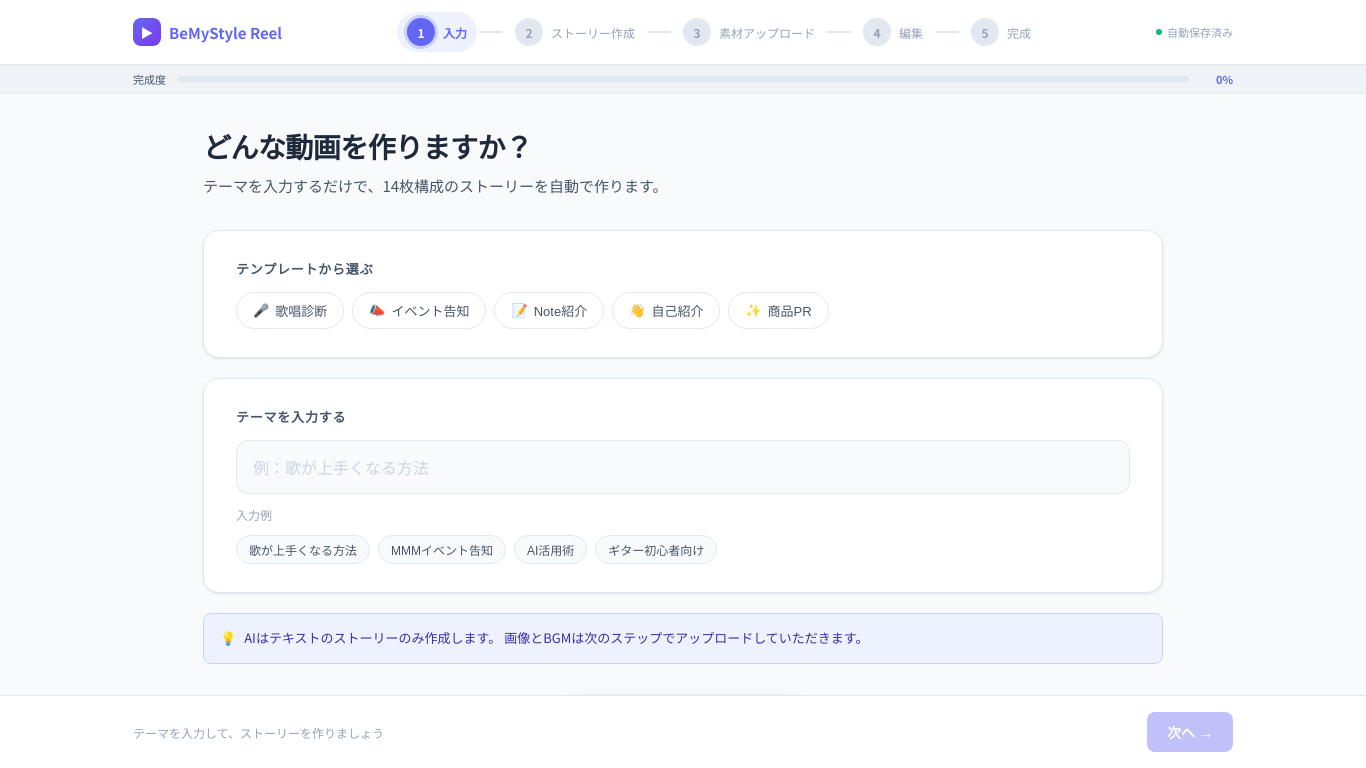
Test: WizardMode: 台本の受け取り（initialScript） › 通常起動のWizardは従来どおり14枚固定（AI生成が3枚返しても14枚に正規化）
Type "テーマ" into the field at (683, 467), box [236,440,1130,494]
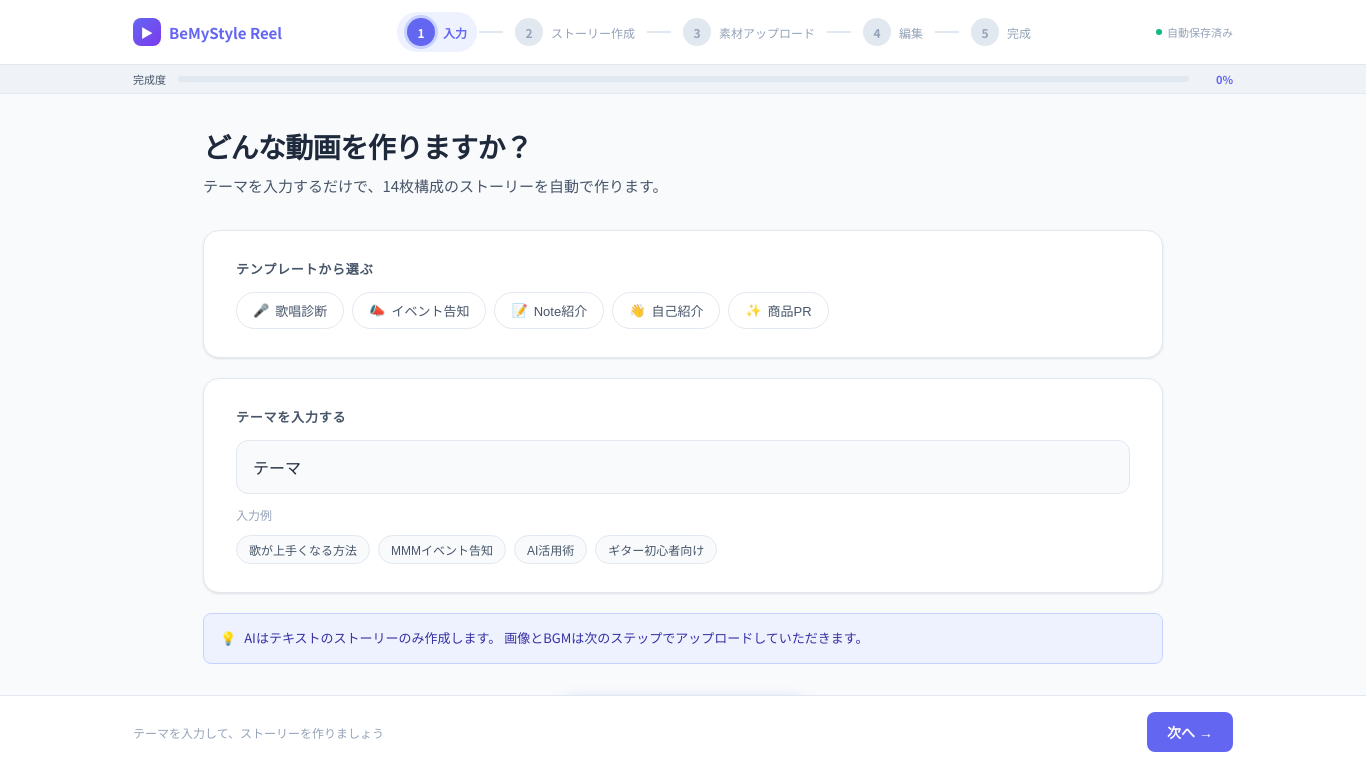
Click the button "次へ →" at (1190, 732), box [1147,712,1233,752]
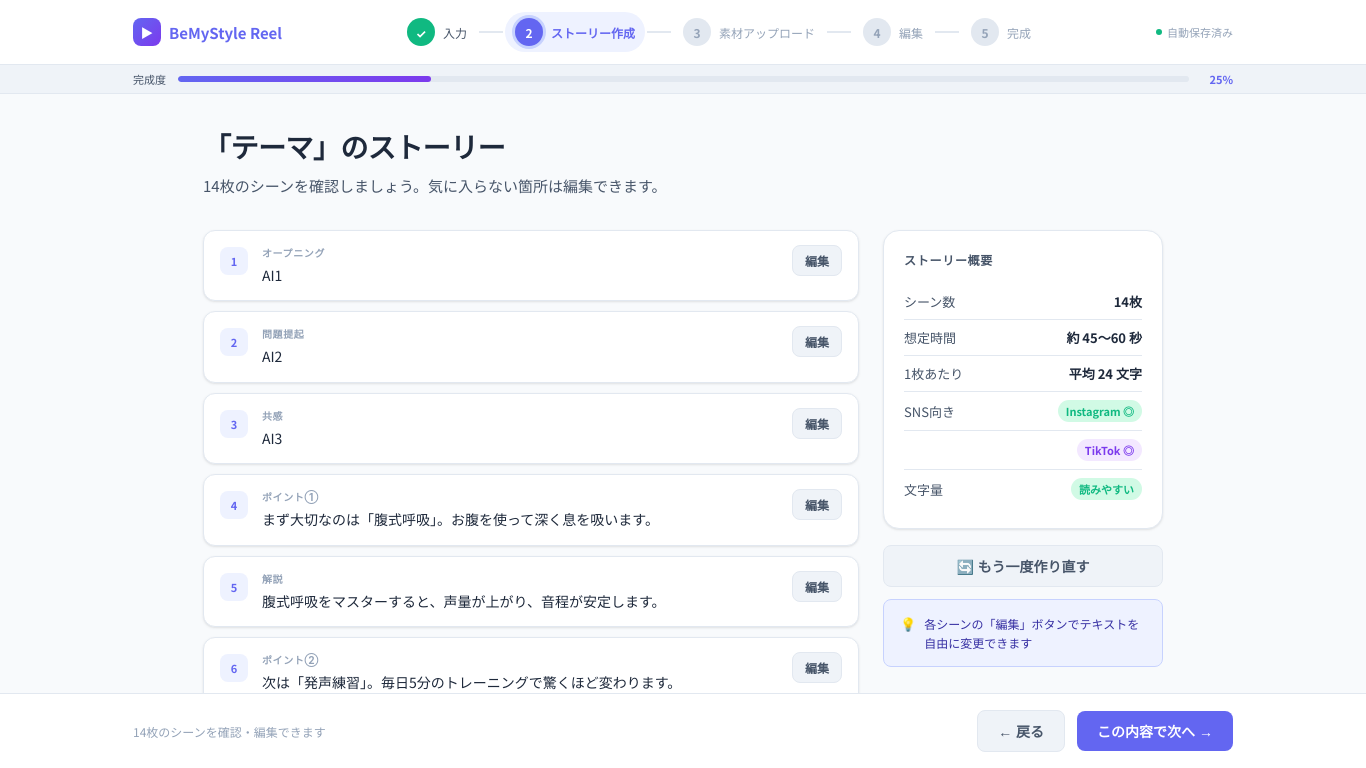
Expected: the text with class "wz-story-text" reads "AI1", [262,265,282,285]
Expected: the text "14枚のシーンを確認しましょう。気に入らない箇所は編集できます。" is shown, [203,175,666,196]
